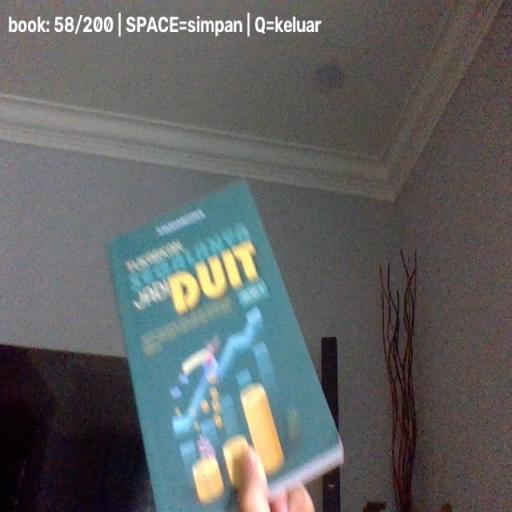Book: (106, 178, 344, 512)
